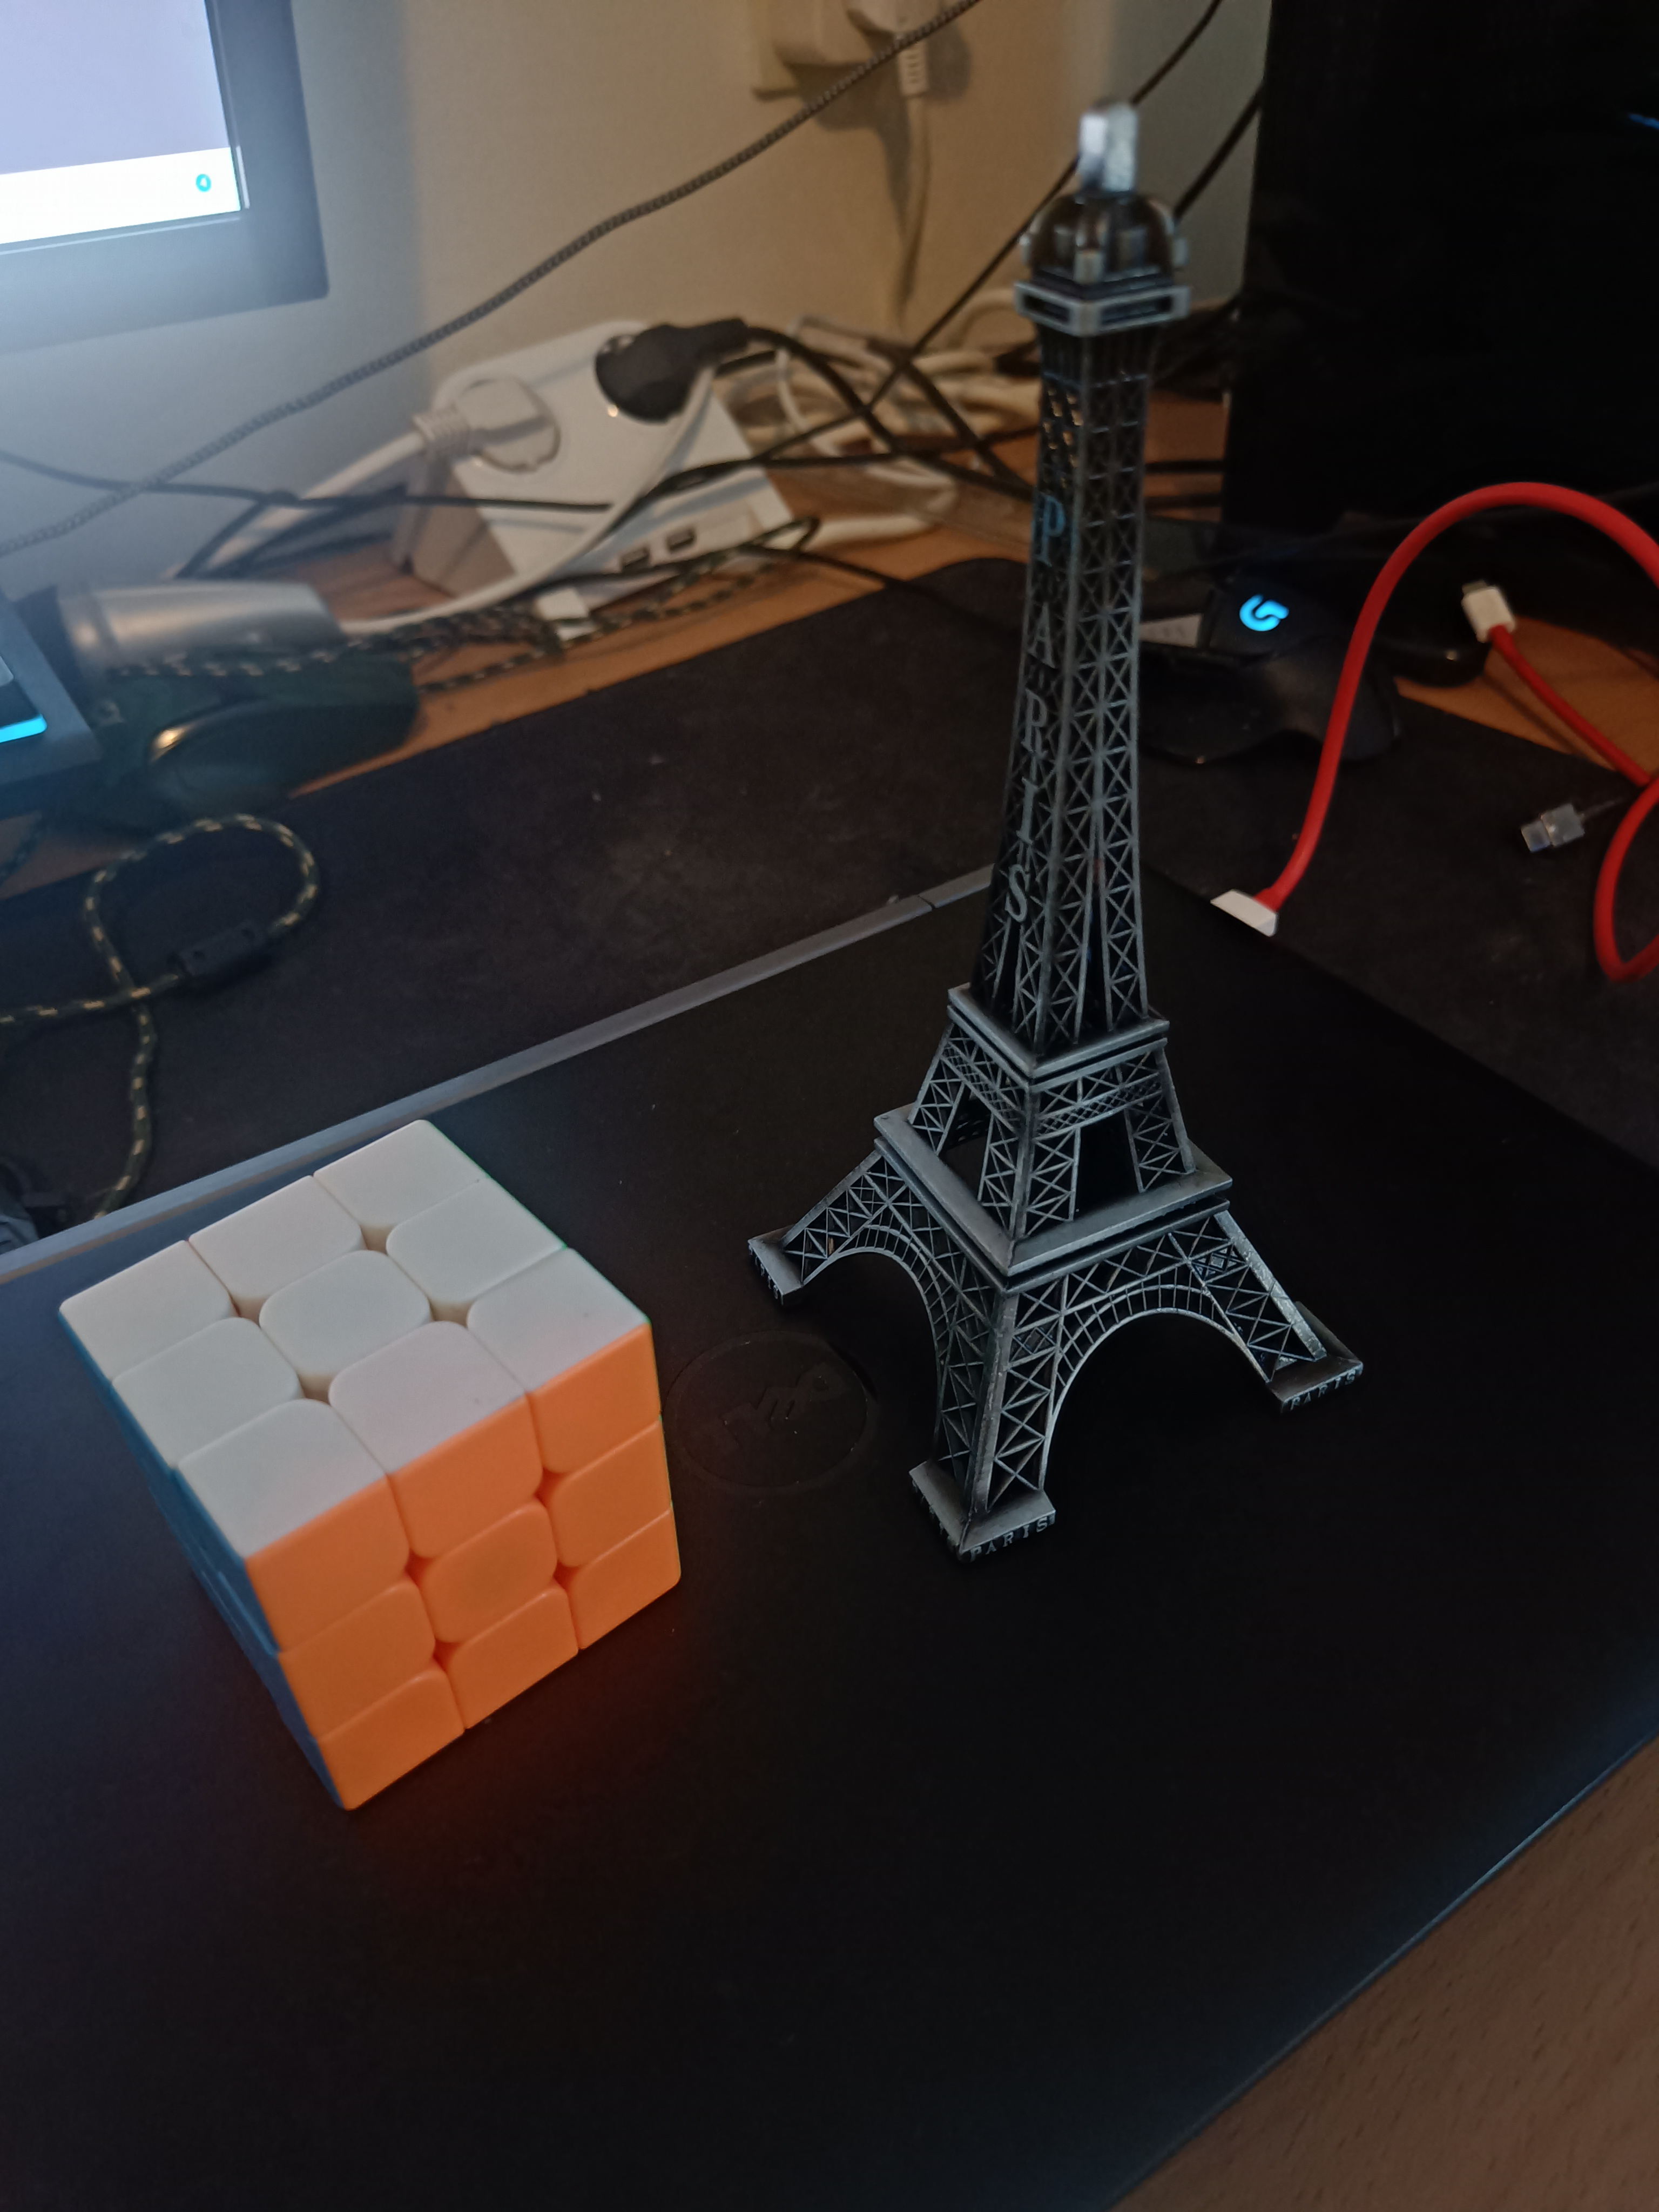Eiffel Tower: (728, 94, 1373, 1561)
Rubiks Cube: (31, 1099, 702, 1827)
